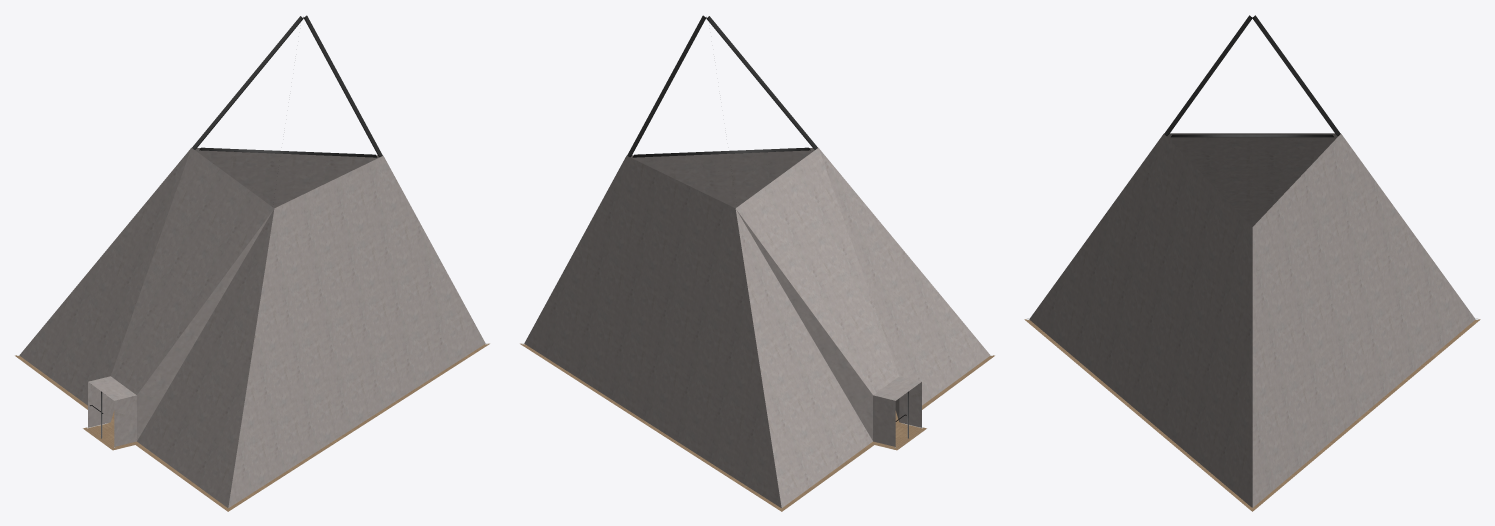
3 renders of one model, left to right at view 1: azimuth 30°, elevation 25°; view 2: azimuth 150°, elevation 25°; view 3: azimuth 270°, elevation 25°, orthographic. The views are drawn at different scales.
Visible parts, largest first — view 1: Baked_Baked_0.001, Baked_Baked_0.002, Baked; view 2: Baked_Baked_0.001, Baked_Baked_0.002, Baked; view 3: Baked_Baked_0.001, Baked, Baked_Baked_0.002.
Part boxes in pixels (x1,y1,x2,y2): Baked_Baked_0.001: [19, 147, 485, 508]; Baked_Baked_0.002: [15, 343, 489, 511]; Baked: [17, 15, 487, 447]; Baked_Baked_0.001: [524, 147, 990, 508]; Baked_Baked_0.002: [520, 343, 994, 511]; Baked: [522, 15, 992, 447]; Baked_Baked_0.001: [1029, 133, 1475, 507]; Baked: [1026, 15, 1478, 319]; Baked_Baked_0.002: [1024, 319, 1480, 511].
Bounding box in the file's own units: 40.87 × 37.18 × 38.51.
